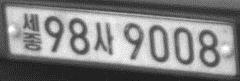0: (172, 26, 195, 65), (148, 24, 169, 63)
8: (198, 28, 220, 67), (68, 17, 90, 55)
9: (123, 21, 144, 60), (43, 15, 64, 53)
사: (94, 22, 114, 55)
세종_V: (22, 12, 42, 52)
